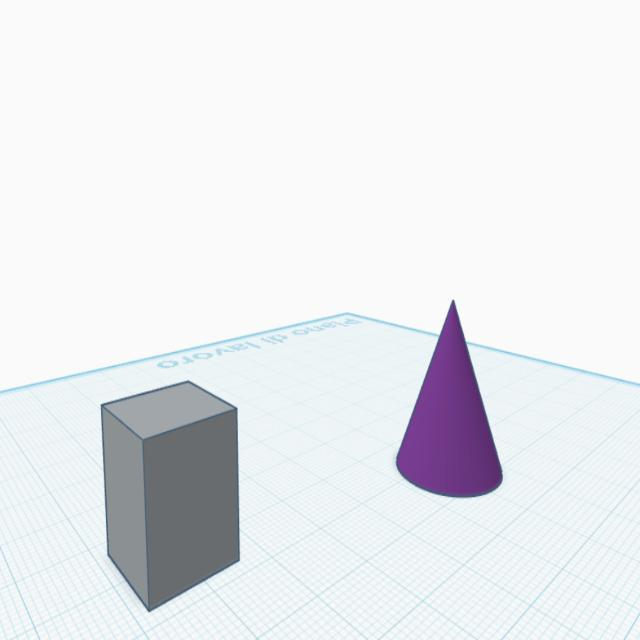cone: (392, 296, 505, 504)
cube: (98, 380, 241, 617)
